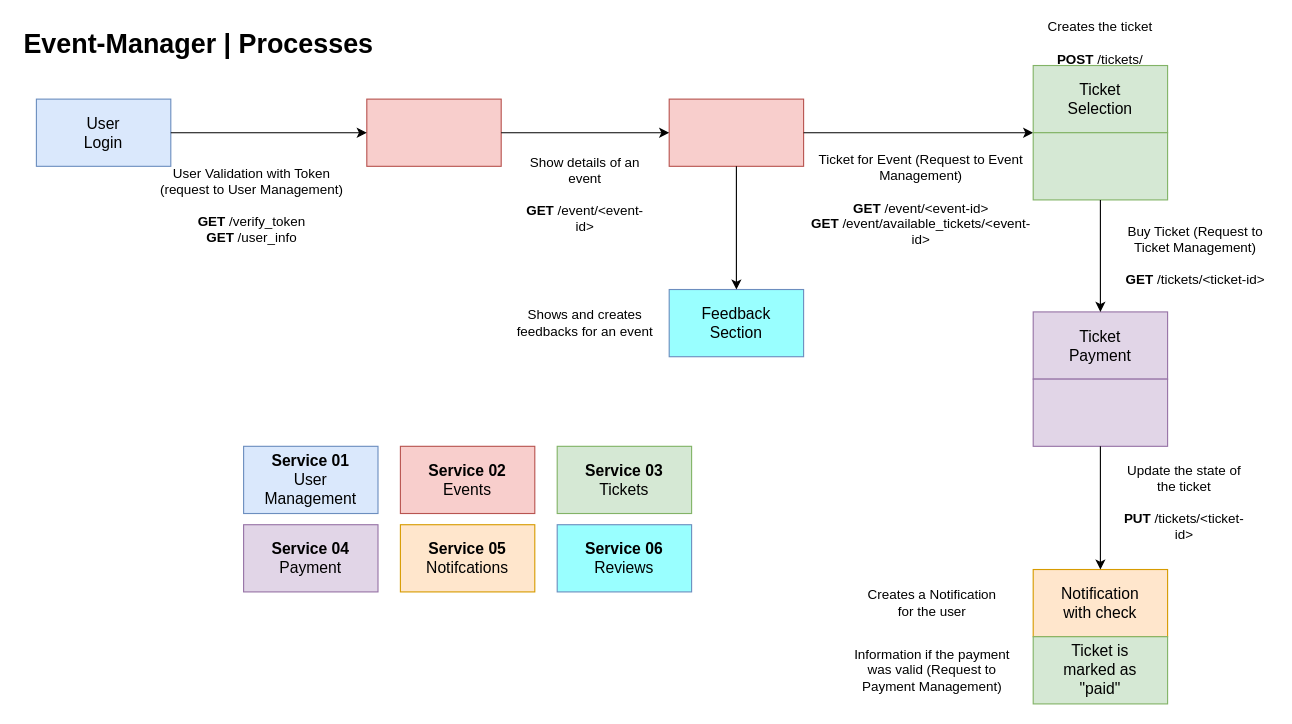
Some shapes in this 1292 by 724 pixel diagram are drawn without their labels. The centre of each missing label's shape, as x and y in pixels:
"All Events" belongs at (433,132).
"Event Details" belongs at (736,132).
"Ticket Allocation" belongs at (1100,166).
"Validation" belongs at (1100,412).
